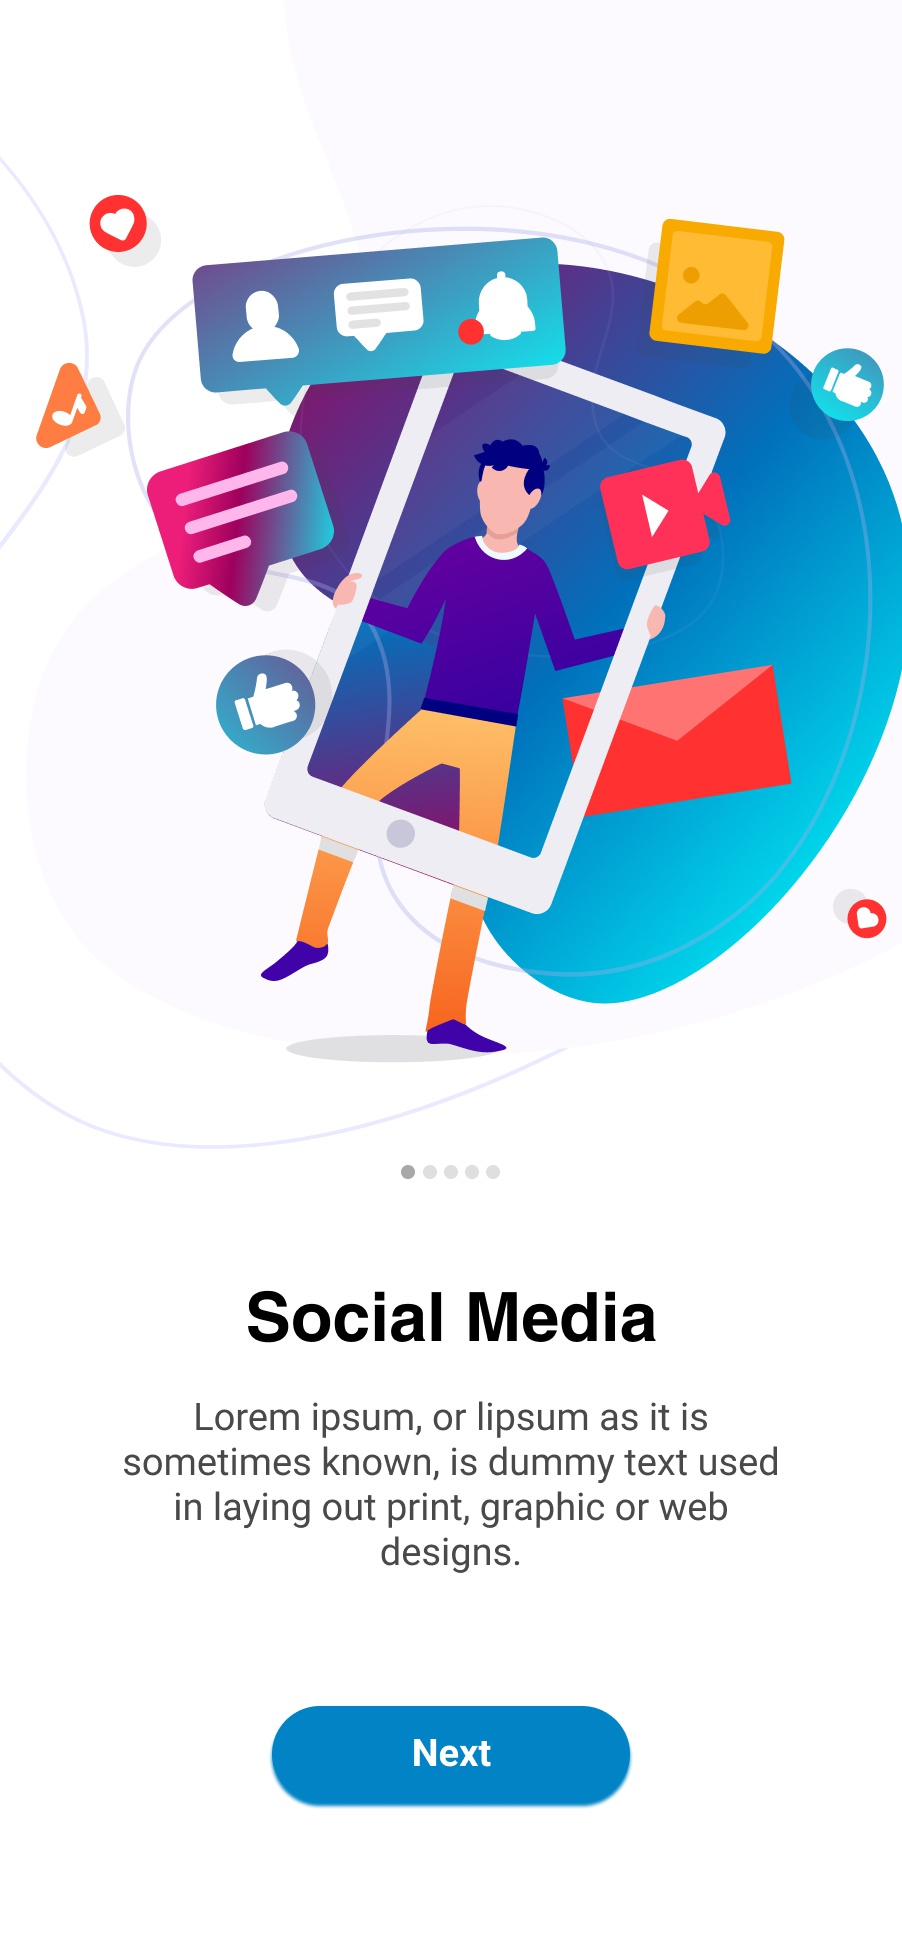Image: (1, 157, 902, 1150)
PageIndicator: (400, 1165, 502, 1181)
Text: (125, 1401, 777, 1574), (248, 1290, 657, 1344)
TextButton: (272, 1705, 630, 1807)
